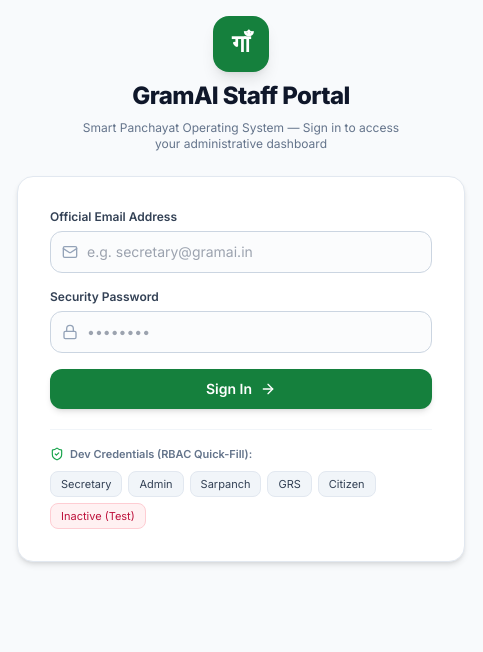
LoginPage Component › displays generic error message on invalid credentials without exposing user enumeration
Type "unknown@gramai.in" into the field labelled "Official Email Address" at (241, 252), box [50,231,432,273]
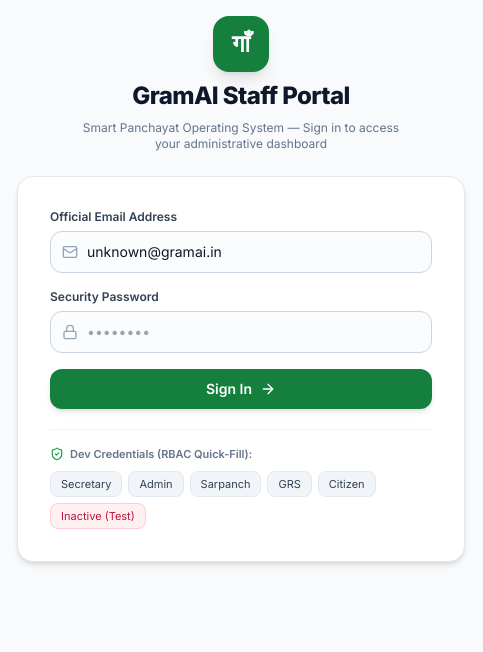
Type "WrongPass@123" into the password field labelled "Security Password" at (241, 332), box [50,311,432,353]
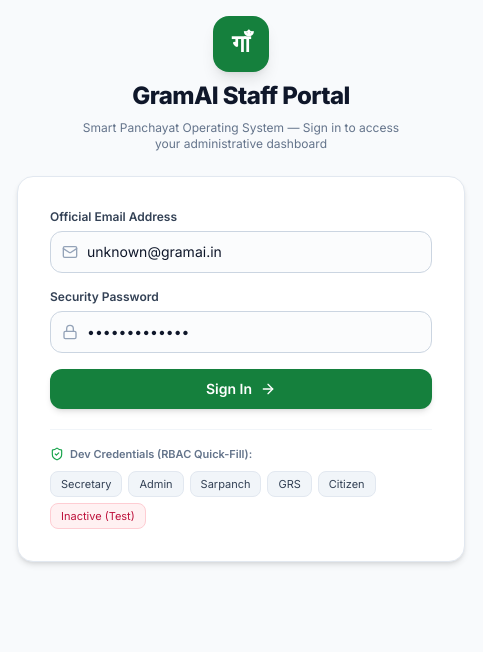
Click the button "Sign In" at (241, 389), box [50,369,432,409]
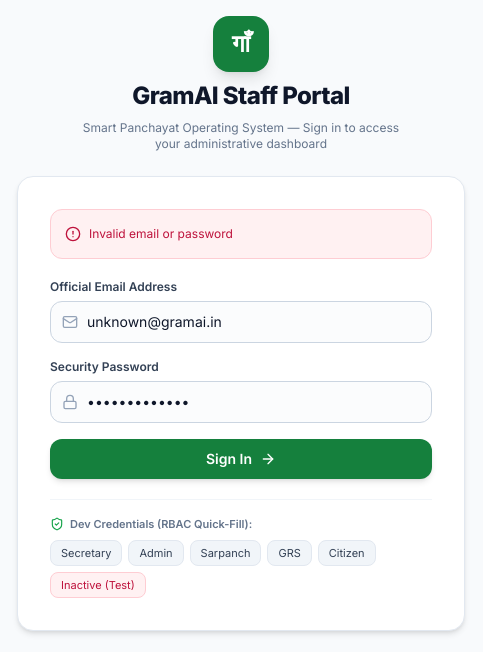
Expected: the message "Invalid email or password" is shown, [50,209,432,258]
Expected: the text "Invalid email or password" is shown, [89,224,233,244]
